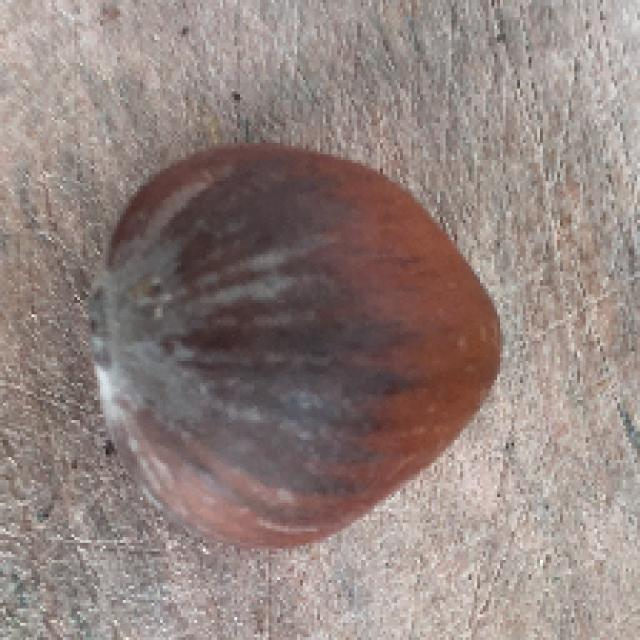damagedHazelnut: (83, 124, 500, 557)
